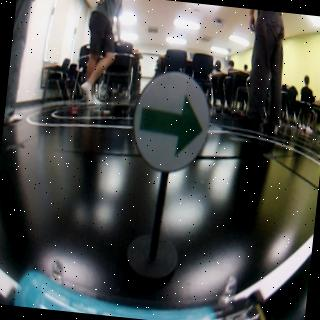right: (130, 66, 214, 174)
